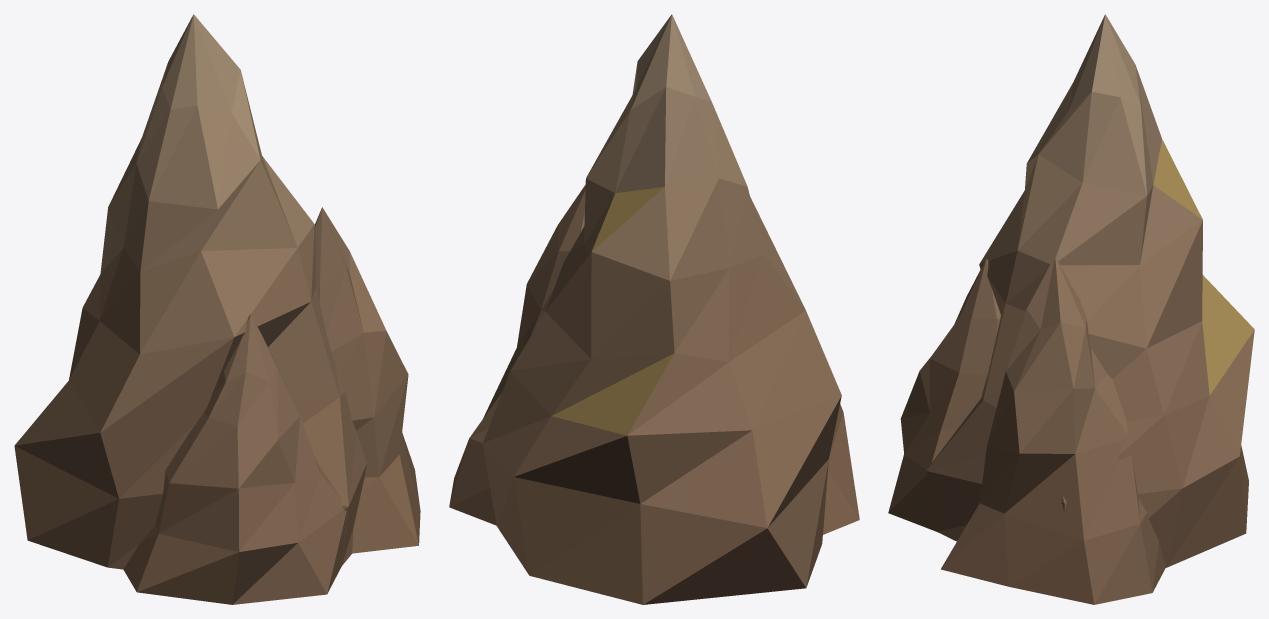
File: Mountain_A.glb
3 renders of one model, left to right at view 1: azimuth 30°, elevation 25°; view 2: azimuth 150°, elevation 25°; view 3: azimuth 270°, elevation 25°, orthographic. The views are drawn at different scales.
Visible parts, largest first — view 1: Mountain_A; view 2: Mountain_A; view 3: Mountain_A.
Part boxes in pixels (<box>): Mountain_A: <box>14,14,420,604</box>; Mountain_A: <box>449,14,859,604</box>; Mountain_A: <box>888,14,1254,604</box>.
Bounding box in the file's own units: 198 × 262 × 178.
